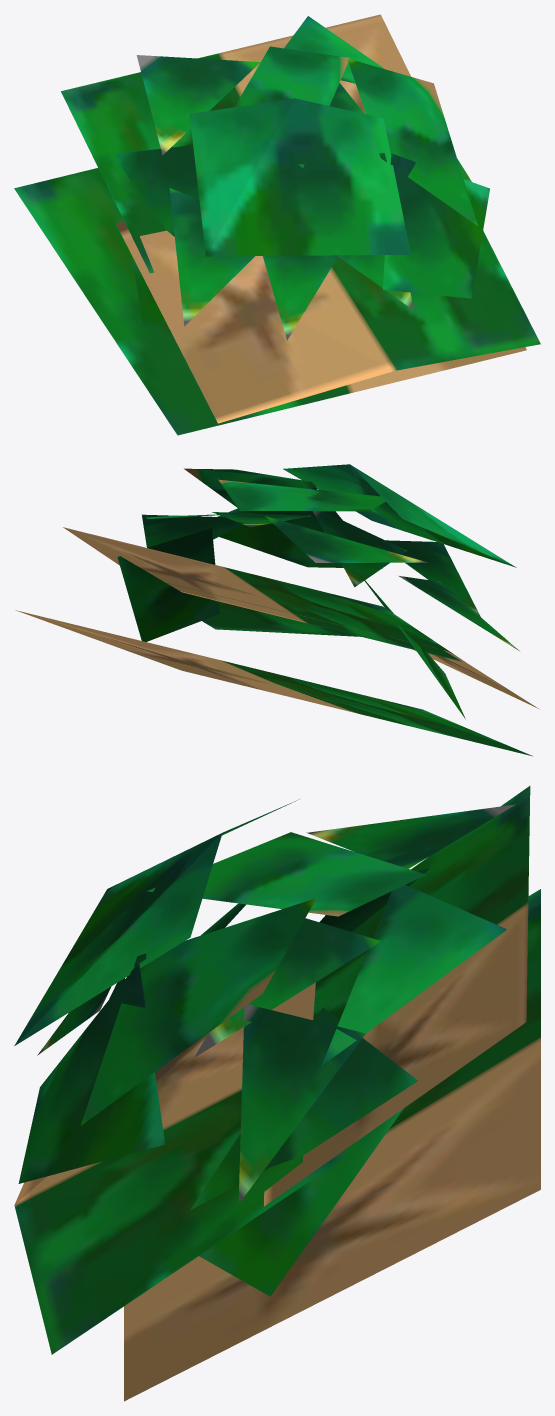
File: fg_bushC_2_bl.dae
3 renders of one model, top to bottom at view 1: azimuth 30°, elevation 25°; view 2: azimuth 150°, elevation 25°; view 3: azimuth 270°, elevation 25°, orthographic. The views are drawn at different scales.
Parts seen in each view (by area): view 1: fg_bushC_2_bl; view 2: fg_bushC_2_bl; view 3: fg_bushC_2_bl.
Boxes of the visible parts, left/top/right/bottom form: fg_bushC_2_bl: left=14, top=14, right=540, bottom=435; fg_bushC_2_bl: left=15, top=464, right=539, bottom=756; fg_bushC_2_bl: left=14, top=786, right=540, bottom=1401.
Size of the model in its own units: 47.83 by 31.21 by 35.4.
Materials: 1 (1 with a texture image).
